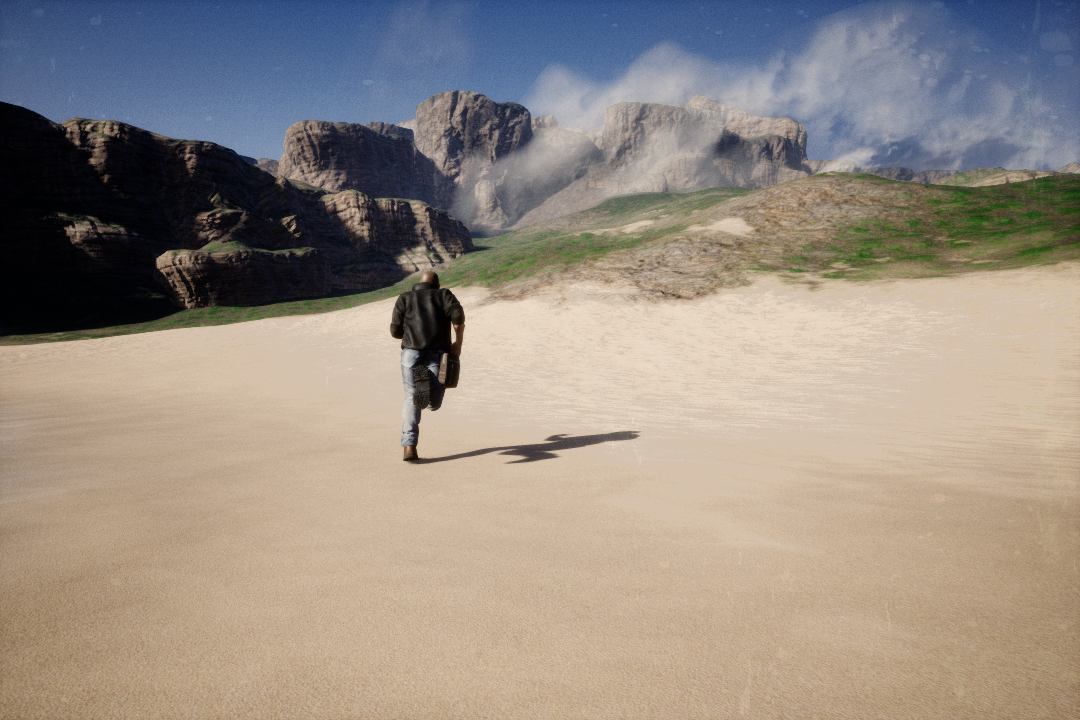person: (379, 256, 483, 480)
